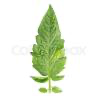Tomato leaf: (31, 2, 66, 95)
